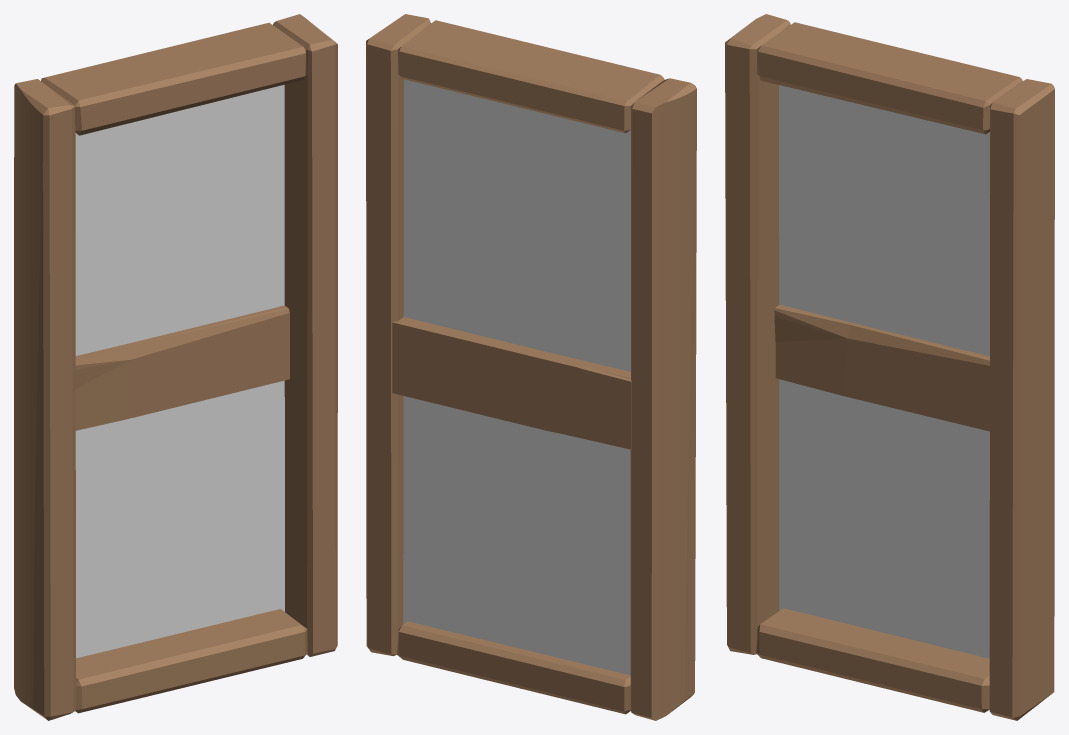
The model's file is PKX_Window_Small_Sash_L.fbx.
3 renders of one model, left to right at view 1: azimuth 30°, elevation 25°; view 2: azimuth 150°, elevation 25°; view 3: azimuth 330°, elevation 25°, orthographic.
Parts seen in each view (by area): view 1: PKX_Window_Small_Sash_L; view 2: PKX_Window_Small_Sash_L; view 3: PKX_Window_Small_Sash_L.
Part boxes in pixels (bbox=[...]): PKX_Window_Small_Sash_L: bbox=[14, 14, 337, 720]; PKX_Window_Small_Sash_L: bbox=[366, 14, 696, 720]; PKX_Window_Small_Sash_L: bbox=[725, 14, 1054, 720].
Bounding box in the file's own units: 28.37 × 56.22 × 6.64.
